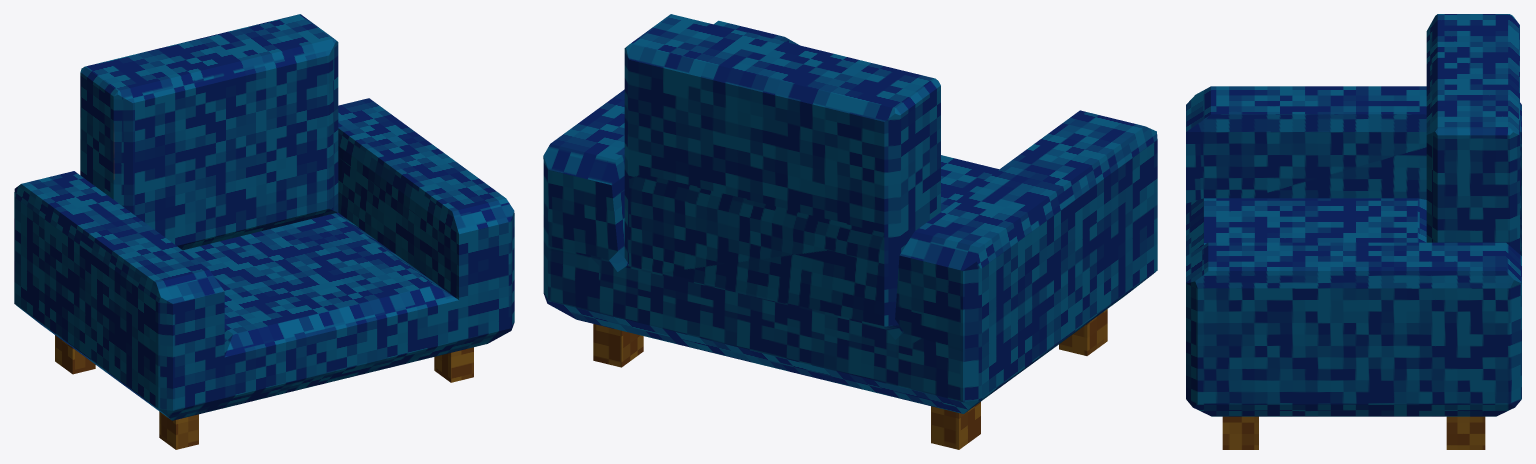
File: sofa.fbx
3 renders of one model, left to right at view 1: azimuth 30°, elevation 25°; view 2: azimuth 150°, elevation 25°; view 3: azimuth 270°, elevation 25°, orthographic. The views are drawn at different scales.
Parts seen in each view (by area): view 1: sofa; view 2: sofa; view 3: sofa.
Part boxes in pixels (<box>): sofa: <box>14,14,514,449</box>; sofa: <box>543,14,1157,449</box>; sofa: <box>1186,14,1521,449</box>.
Bounding box in the file's own units: 503 × 373 × 378.
2 materials, 2 textured.
